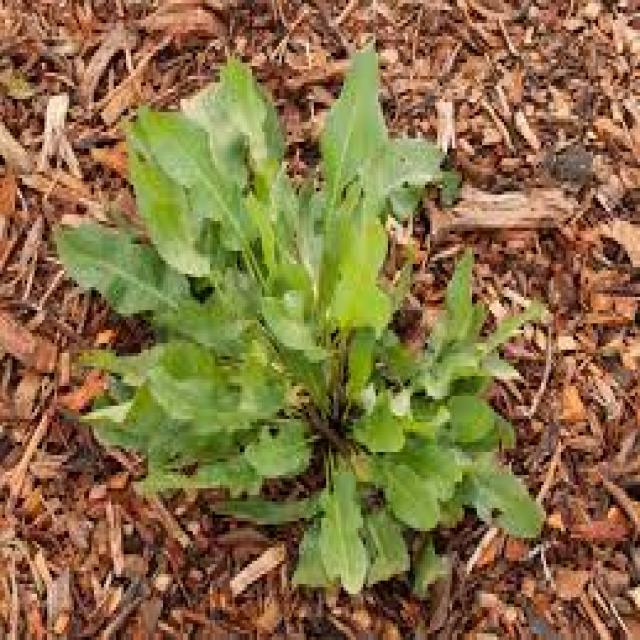organic waste: (52, 33, 539, 594)
